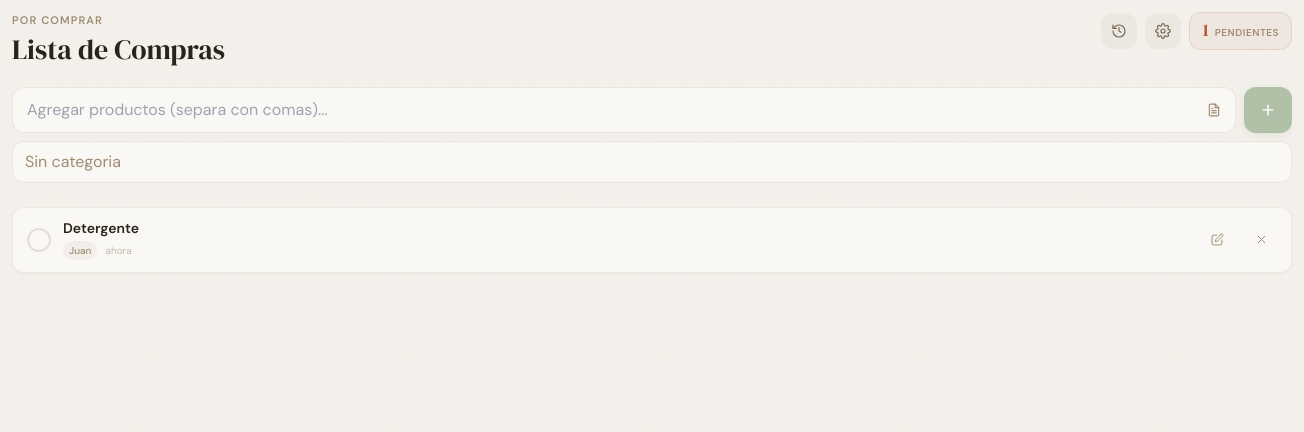
Test: ShoppingList — edición de ítems › al tocar editar muestra el formulario inline con los valores actuales
Expected: the text "Detergente" is shown, [63,218,139,236]
Click the button titled "Editar": coordinates (1217, 240) [1201,224,1233,256]
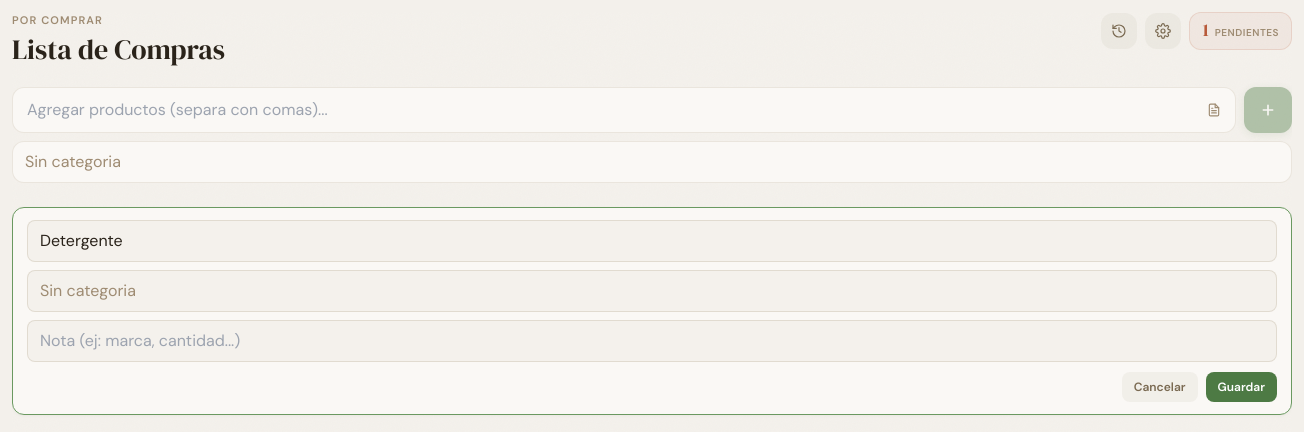
Now the field showing "Detergente" is shown, box [27,220,1277,262]
Now the button "Guardar" is shown, box [1206,372,1277,402]
Now the button "Cancelar" is shown, box [1122,372,1198,402]
